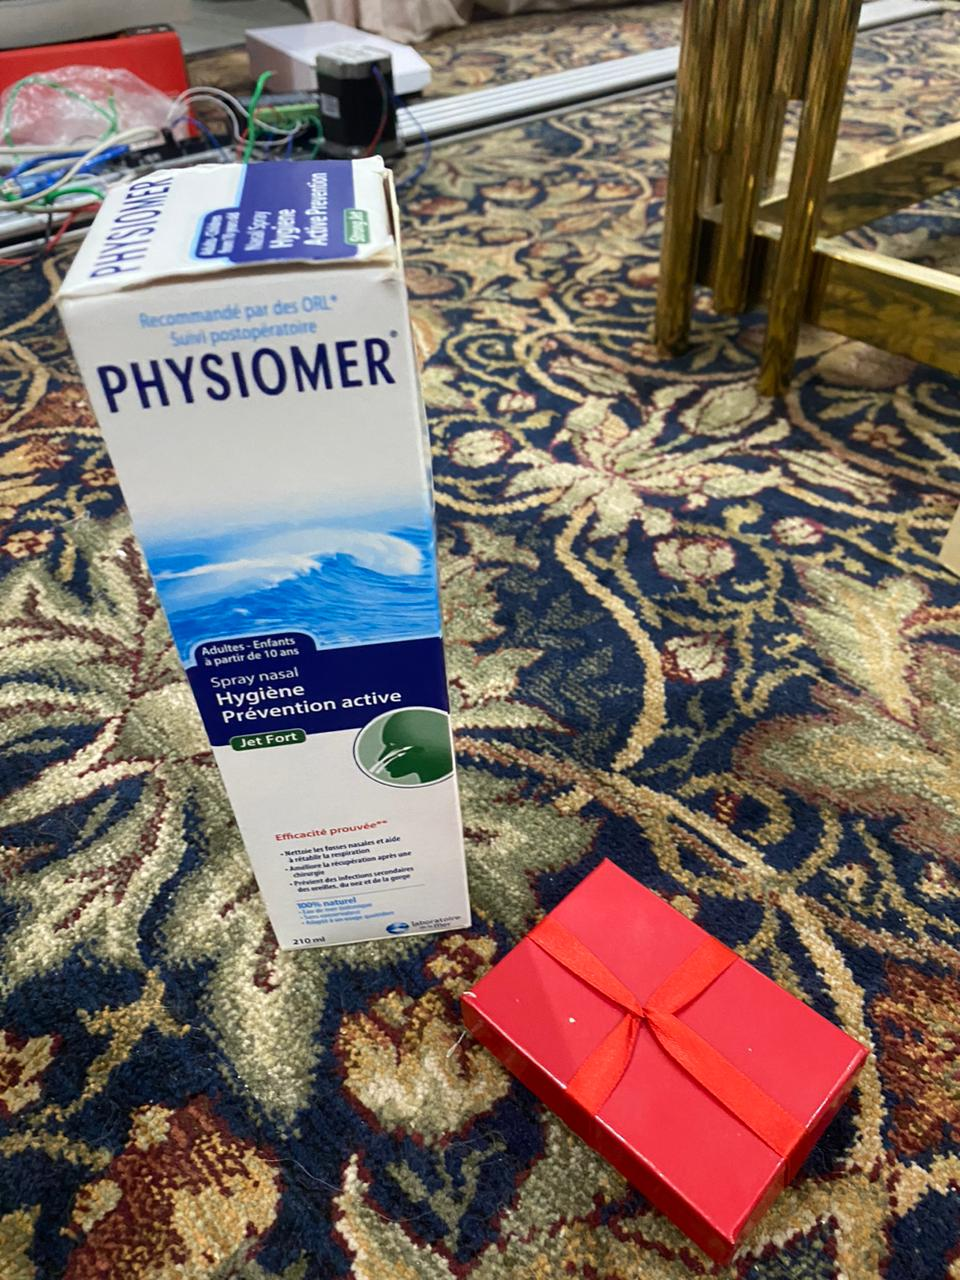Black Box: (451, 855, 879, 1265)
Physiomer: (58, 146, 475, 955)
